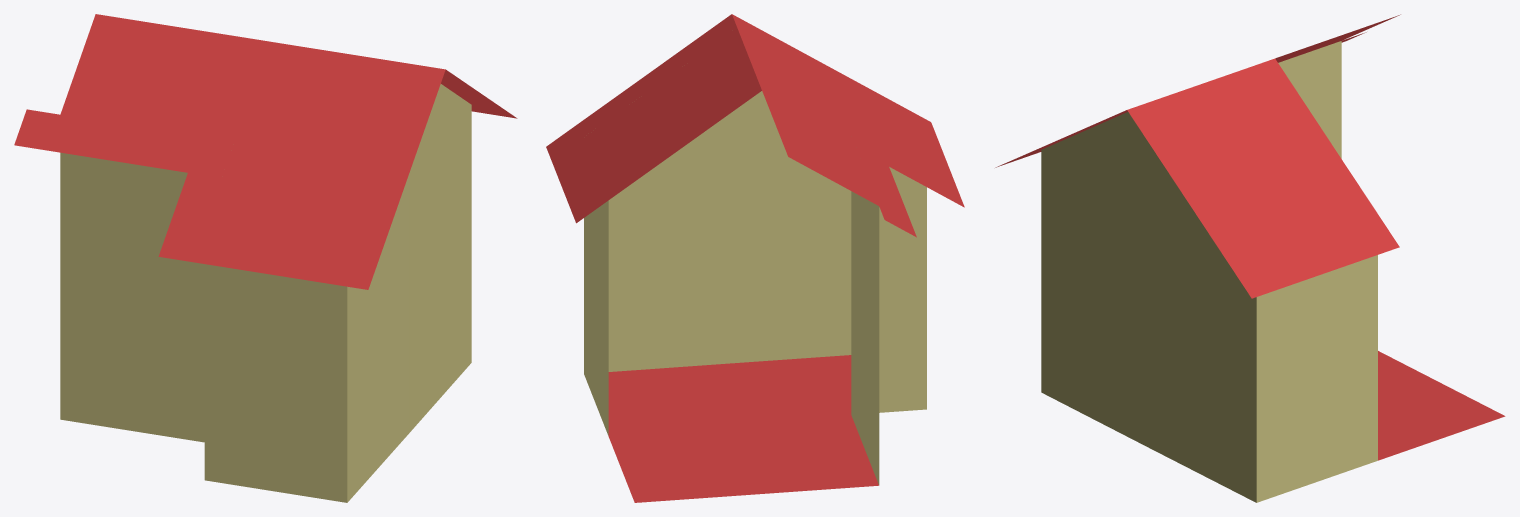
3 views of the same model, side by side, from view 1: azimuth 30°, elevation 25°; view 2: azimuth 150°, elevation 25°; view 3: azimuth 270°, elevation 25° (orthographic). The views are drawn at different scales.
Bounding box in the file's own units: 10.95 × 11.21 × 8.43.
